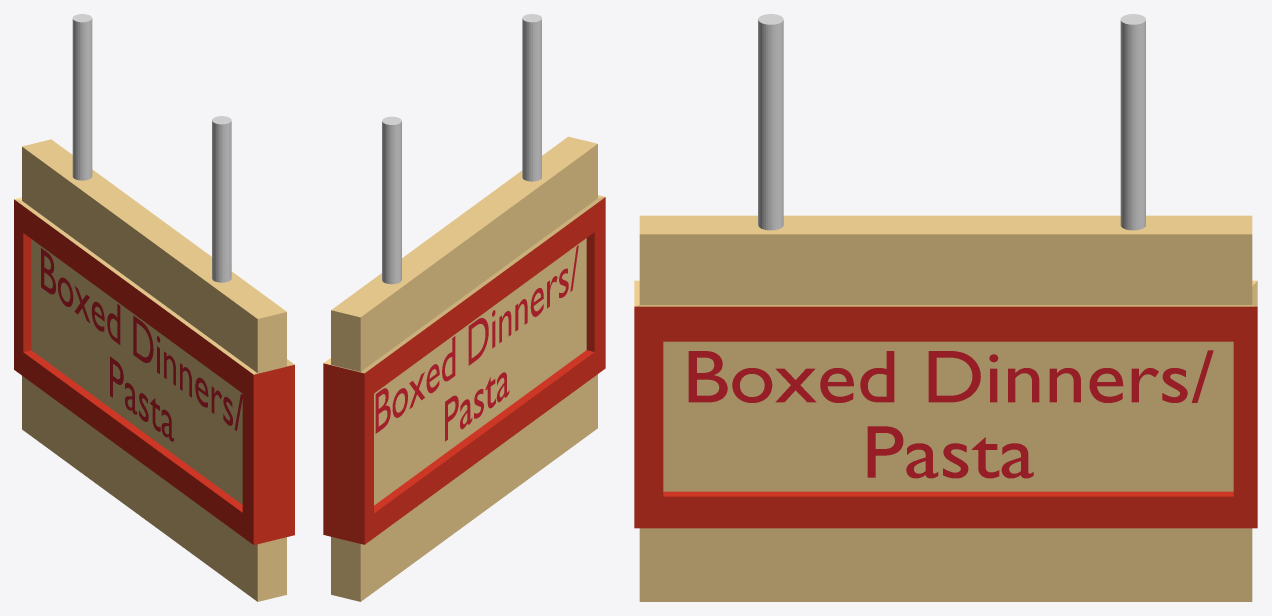
Rendered from pastaSign.fbx.
The picture shows the model from 3 angles, left to right: view 1: azimuth 30°, elevation 25°; view 2: azimuth 150°, elevation 25°; view 3: azimuth 270°, elevation 25°; orthographic projection. The views are drawn at different scales.
Visible parts, largest first — view 1: baseSign, BaseText.001, Cylinder.001, Cylinder.000; view 2: baseSign, BaseText.001, Cylinder.001, Cylinder.000; view 3: baseSign, BaseText.000, Cylinder.001, Cylinder.000.
Boxes of the visible parts, x1=… form: baseSign: x1=14, y1=139, x2=294, y2=601; BaseText.001: x1=41, y1=248, x2=242, y2=441; Cylinder.001: x1=72, y1=14, x2=92, y2=180; Cylinder.000: x1=212, y1=116, x2=231, y2=282; baseSign: x1=323, y1=136, x2=605, y2=601; BaseText.001: x1=375, y1=245, x2=578, y2=441; Cylinder.001: x1=382, y1=116, x2=401, y2=284; Cylinder.000: x1=522, y1=14, x2=541, y2=181; baseSign: x1=634, y1=215, x2=1257, y2=601; BaseText.000: x1=688, y1=350, x2=1213, y2=478; Cylinder.001: x1=1120, y1=14, x2=1145, y2=230; Cylinder.000: x1=758, y1=14, x2=783, y2=230.
Bounding box in the file's own units: 42.35 × 434 × 427.
